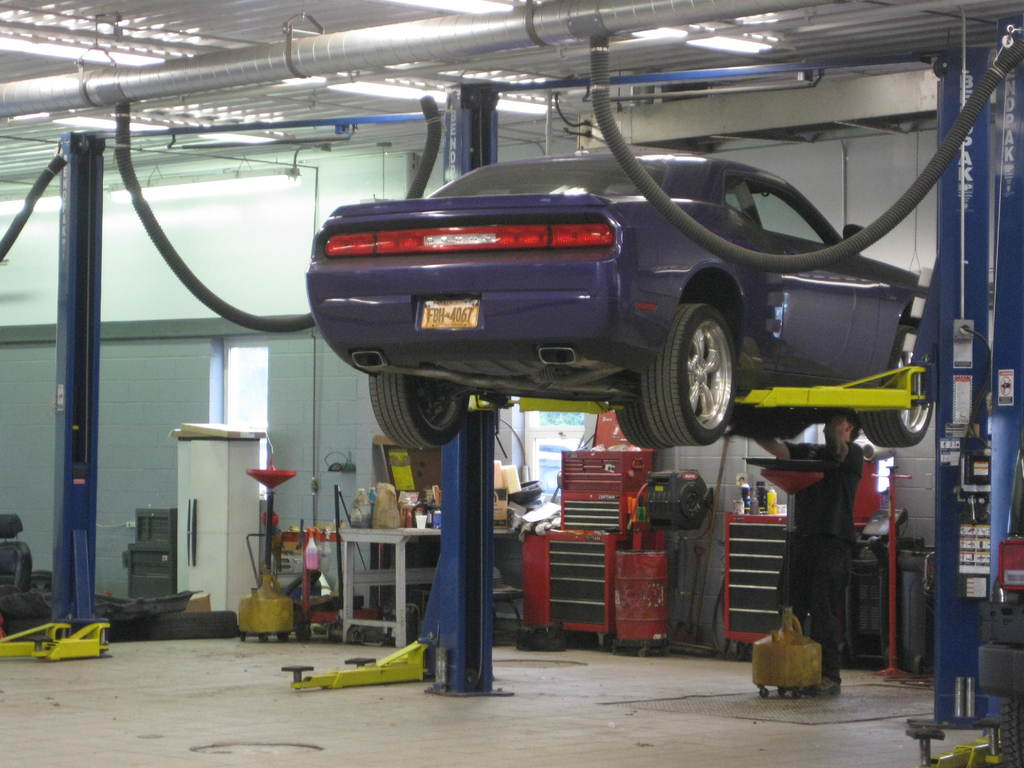Car: (293, 124, 961, 455)
